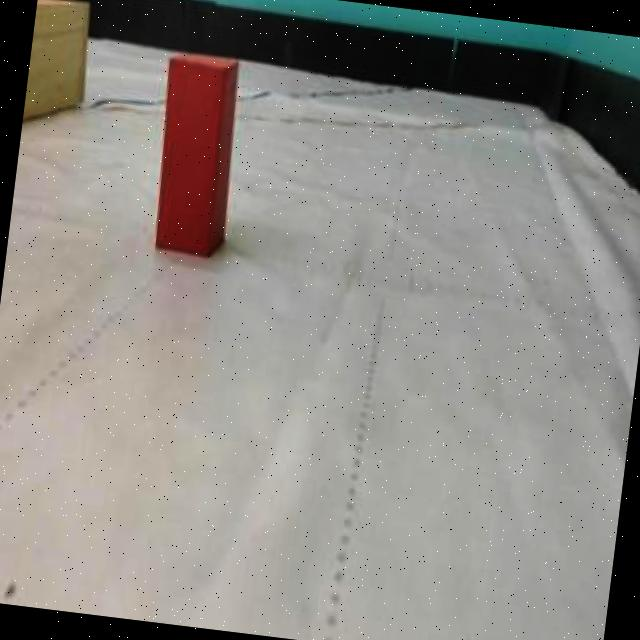redbox: (148, 47, 244, 256)
